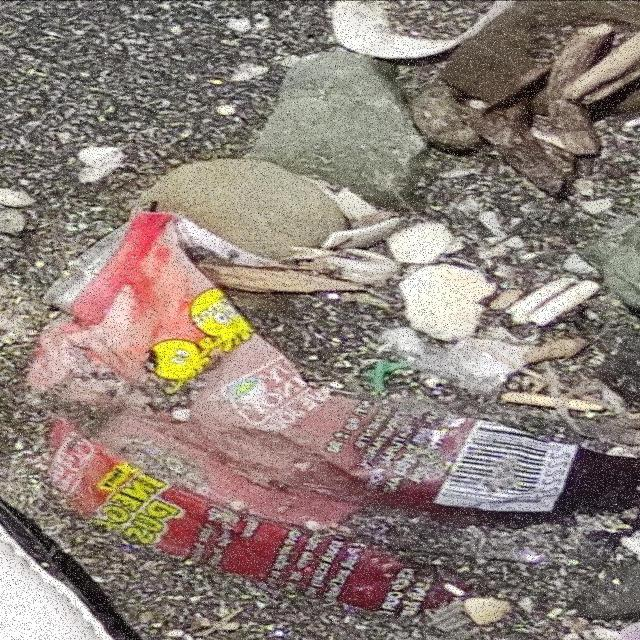plastic_waste: (28, 210, 639, 623)
